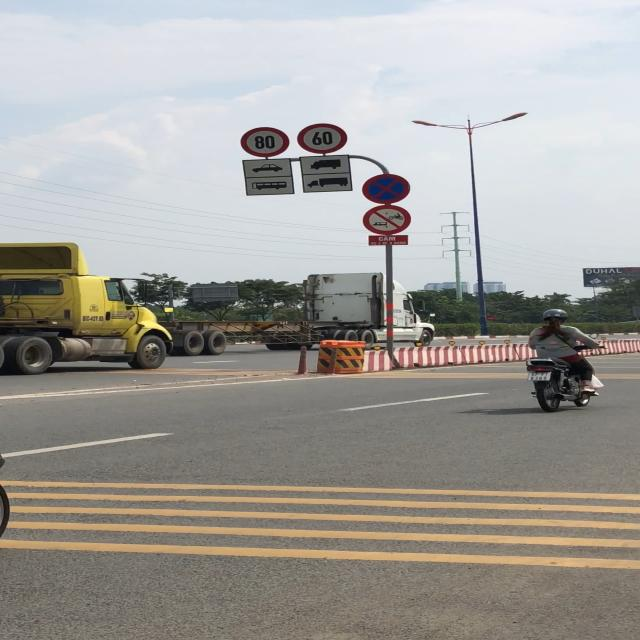Bien bao cam dung xe va do xe: (360, 173, 413, 205)
Bien bao toc do toi da cho phep: (295, 122, 351, 156), (240, 126, 290, 158)
